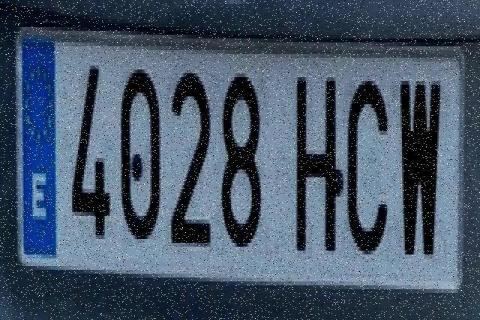LicensePlate: (8, 4, 480, 310)
